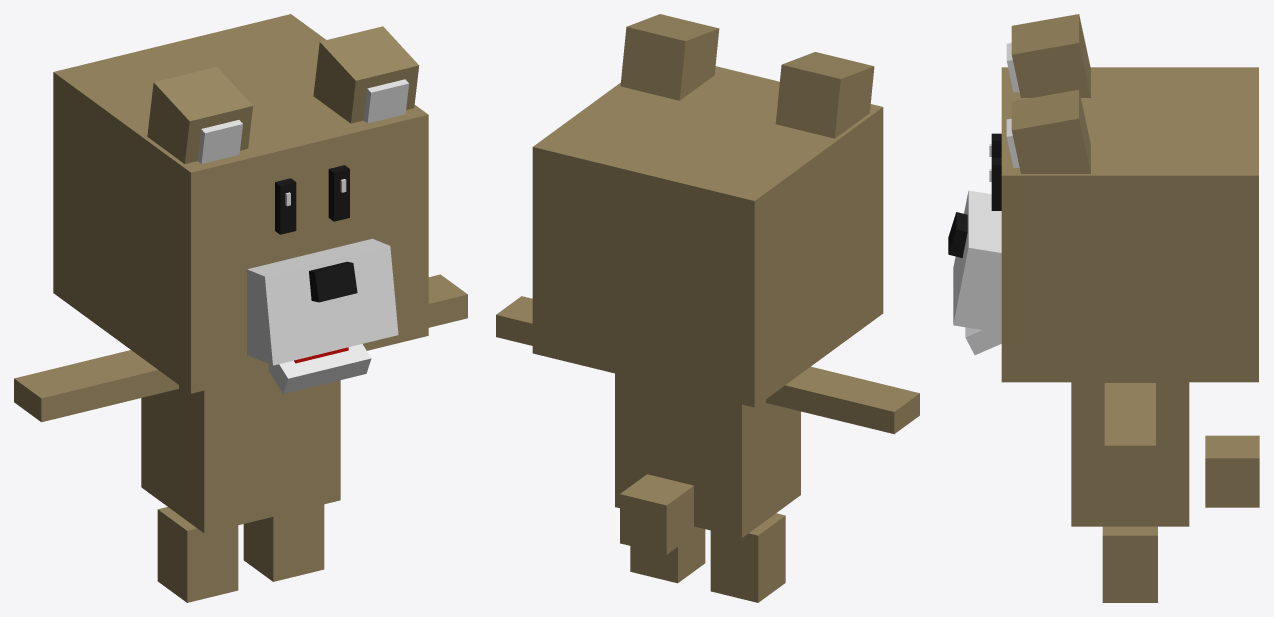
The model's file is Bear_Normal.fbx.
The picture shows the model from 3 angles, left to right: view 1: azimuth 30°, elevation 25°; view 2: azimuth 150°, elevation 25°; view 3: azimuth 270°, elevation 25°; orthographic projection. The views are drawn at different scales.
Visible parts, largest first — view 1: BG_003__2_:Bear_005:pCube1, BG_003__2_:Bear_005:pCube5, BG_003__2_:Bear_005:pCube10, BG_003__2_:Bear_005:pCube15, BG_003__2_:Bear_005:pCube17, BG_003__2_:Bear_005:pCube6, BG_003__2_:Bear_005:pCube3, BG_003__2_:Bear_005:pCube18, BG_003__2_:Bear_005:pCube14, BG_003__2_:Bear_005:pCube19, BG_003__2_:Bear_005:pCube11, BG_003__2_:Bear_005:pCube20 (+3 smaller); view 2: BG_003__2_:Bear_005:pCube1, BG_003__2_:Bear_005:pCube5, BG_003__2_:Bear_005:pCube6, BG_003__2_:Bear_005:pCube17, BG_003__2_:Bear_005:pCube15, BG_003__2_:Bear_005:pCube3, BG_003__2_:Bear_005:pCube4, BG_003__2_:Bear_005:pCube18, BG_003__2_:Bear_005:pCube19; view 3: BG_003__2_:Bear_005:pCube1, BG_003__2_:Bear_005:pCube5, BG_003__2_:Bear_005:pCube17, BG_003__2_:Bear_005:pCube10, BG_003__2_:Bear_005:pCube6, BG_003__2_:Bear_005:pCube19, BG_003__2_:Bear_005:pCube18, BG_003__2_:Bear_005:pCube4, BG_003__2_:Bear_005:pCube11, BG_003__2_:Bear_005:pCube14, BG_003__2_:Bear_005:pCube8.
Part boxes in pixels (x1=…): BG_003__2_:Bear_005:pCube1: x1=53, y1=14, x2=428, y2=393; BG_003__2_:Bear_005:pCube5: x1=141, y1=374, x2=340, y2=533; BG_003__2_:Bear_005:pCube10: x1=247, y1=238, x2=398, y2=365; BG_003__2_:Bear_005:pCube15: x1=14, y1=350, x2=178, y2=422; BG_003__2_:Bear_005:pCube17: x1=313, y1=26, x2=419, y2=123; BG_003__2_:Bear_005:pCube6: x1=147, y1=67, x2=252, y2=163; BG_003__2_:Bear_005:pCube3: x1=157, y1=507, x2=238, y2=602; BG_003__2_:Bear_005:pCube18: x1=243, y1=504, x2=324, y2=581; BG_003__2_:Bear_005:pCube14: x1=268, y1=344, x2=371, y2=393; BG_003__2_:Bear_005:pCube19: x1=428, y1=274, x2=467, y2=327; BG_003__2_:Bear_005:pCube11: x1=309, y1=261, x2=357, y2=302; BG_003__2_:Bear_005:pCube20: x1=363, y1=79, x2=409, y2=123; BG_003__2_:Bear_005:pCube1: x1=532, y1=66, x2=883, y2=407; BG_003__2_:Bear_005:pCube5: x1=615, y1=373, x2=800, y2=537; BG_003__2_:Bear_005:pCube6: x1=775, y1=52, x2=874, y2=138; BG_003__2_:Bear_005:pCube17: x1=620, y1=14, x2=719, y2=100; BG_003__2_:Bear_005:pCube15: x1=766, y1=366, x2=919, y2=434; BG_003__2_:Bear_005:pCube3: x1=710, y1=513, x2=785, y2=602; BG_003__2_:Bear_005:pCube4: x1=620, y1=474, x2=693, y2=554; BG_003__2_:Bear_005:pCube18: x1=630, y1=526, x2=705, y2=583; BG_003__2_:Bear_005:pCube19: x1=496, y1=296, x2=532, y2=345; BG_003__2_:Bear_005:pCube1: x1=1001, y1=67, x2=1258, y2=382; BG_003__2_:Bear_005:pCube5: x1=1071, y1=382, x2=1189, y2=526; BG_003__2_:Bear_005:pCube17: x1=1011, y1=89, x2=1090, y2=173; BG_003__2_:Bear_005:pCube10: x1=953, y1=190, x2=1001, y2=332; BG_003__2_:Bear_005:pCube6: x1=1011, y1=14, x2=1090, y2=97; BG_003__2_:Bear_005:pCube19: x1=1104, y1=383, x2=1155, y2=467; BG_003__2_:Bear_005:pCube18: x1=1102, y1=526, x2=1157, y2=602; BG_003__2_:Bear_005:pCube4: x1=1205, y1=435, x2=1259, y2=507; BG_003__2_:Bear_005:pCube11: x1=948, y1=212, x2=967, y2=258; BG_003__2_:Bear_005:pCube14: x1=965, y1=327, x2=1001, y2=354; BG_003__2_:Bear_005:pCube8: x1=991, y1=158, x2=1001, y2=210.
Size of the model in its own units: 0.0529 by 0.0641 by 0.0358.
